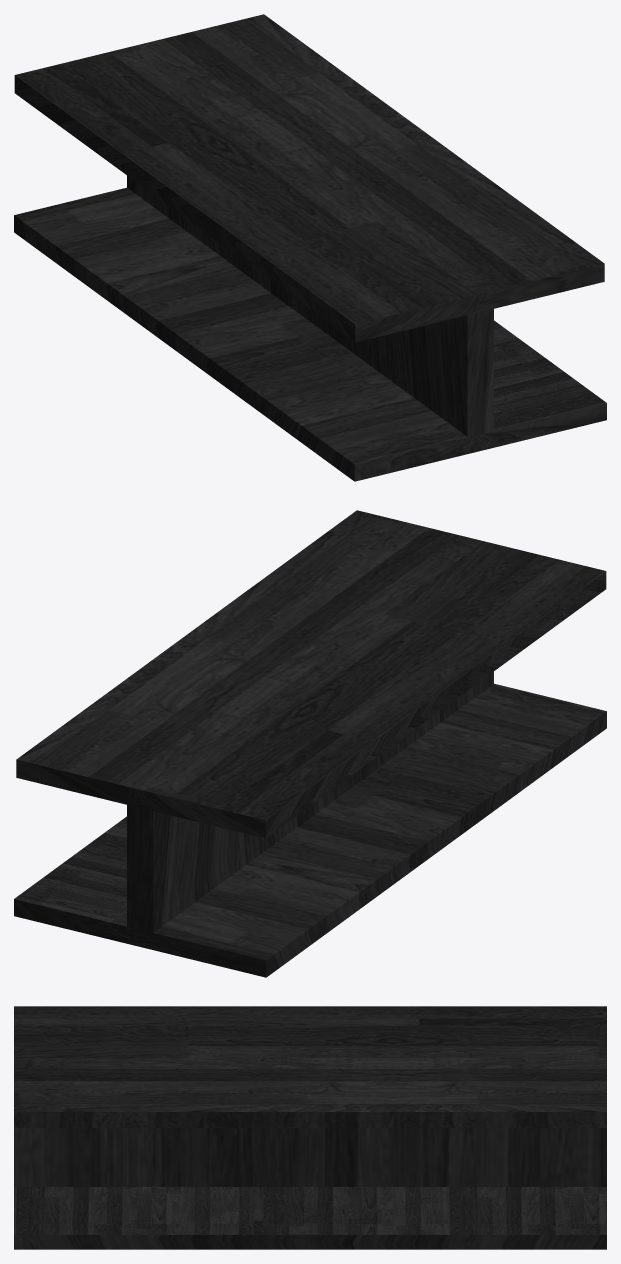
Rendered from table.obj.
3 renders of one model, top to bottom at view 1: azimuth 30°, elevation 25°; view 2: azimuth 150°, elevation 25°; view 3: azimuth 270°, elevation 25°, orthographic. The views are drawn at different scales.
Parts seen in each view (by area): view 1: Cube_Cube.001; view 2: Cube_Cube.001; view 3: Cube_Cube.001.
Part boxes in pixels (<box>): Cube_Cube.001: <box>14,14,606,481</box>; Cube_Cube.001: <box>14,510,606,977</box>; Cube_Cube.001: <box>14,1006,606,1249</box>.
Bounding box in the file's own units: 2 × 1.19 × 4.68.
1 material, 1 textured.
